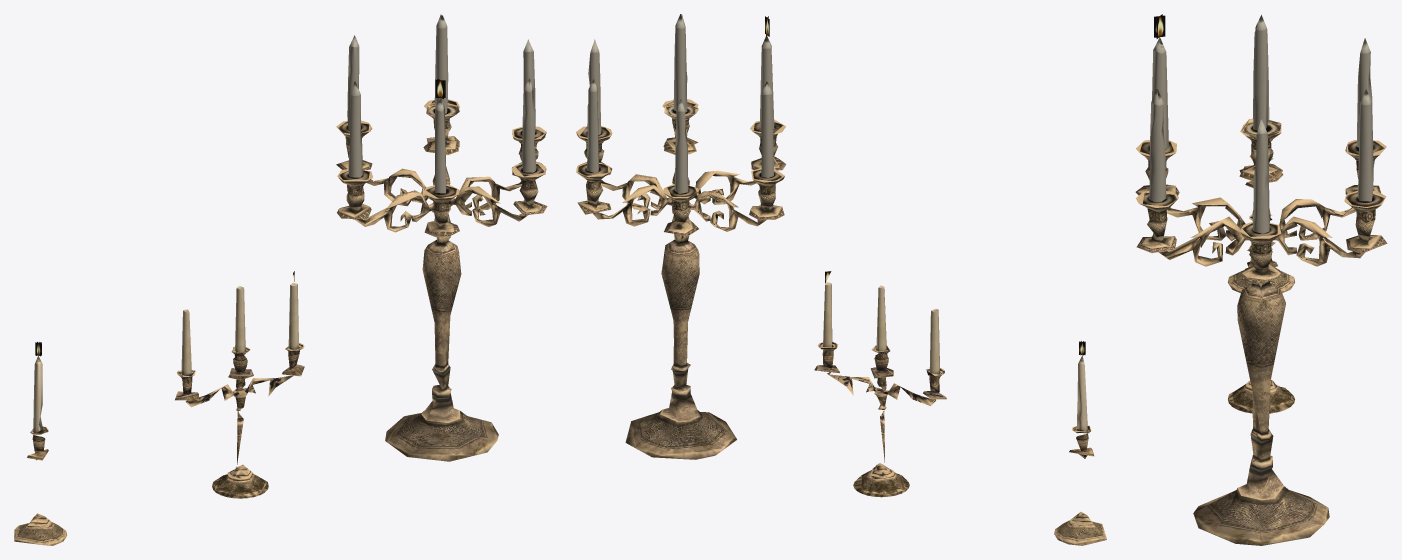
Rendered from brass_candleholders.glb.
3 renders of one model, left to right at view 1: azimuth 30°, elevation 25°; view 2: azimuth 150°, elevation 25°; view 3: azimuth 270°, elevation 25°, orthographic. The views are drawn at different scales.
Parts seen in each view (by area): view 1: brass_candleholder_03, brass_candleholder_02, brass_candleholder_01; view 2: brass_candleholder_03, brass_candleholder_02, brass_candleholder_01; view 3: brass_candleholder_03, brass_candleholder_02, brass_candleholder_01.
Part boxes in pixels (x1,y1,x2,y2): brass_candleholder_03: (336, 14, 547, 461); brass_candleholder_02: (175, 271, 304, 498); brass_candleholder_01: (14, 342, 66, 545); brass_candleholder_03: (576, 14, 786, 459); brass_candleholder_02: (814, 271, 946, 497); brass_candleholder_01: (1054, 341, 1106, 545); brass_candleholder_03: (1135, 14, 1387, 545); brass_candleholder_02: (1228, 214, 1294, 413); brass_candleholder_01: (1228, 155, 1294, 293).
Size of the model in its own units: 1.05 by 0.8018 by 0.3644.
5 materials, 5 textured.
